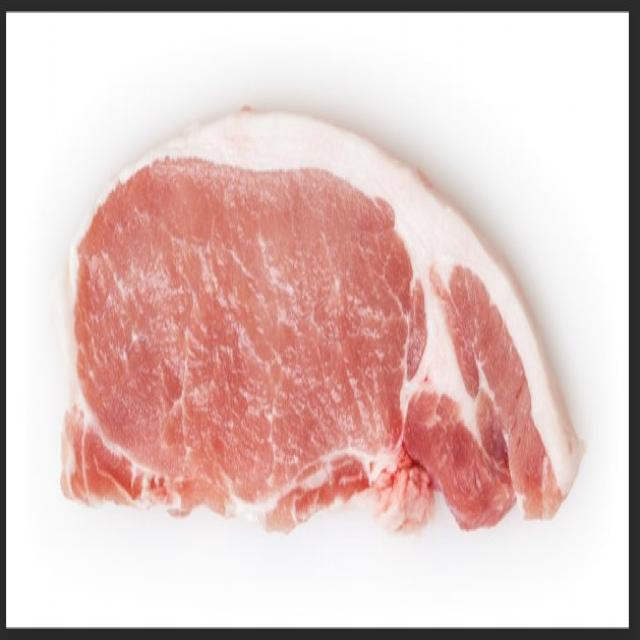Pork: (57, 105, 580, 538)
